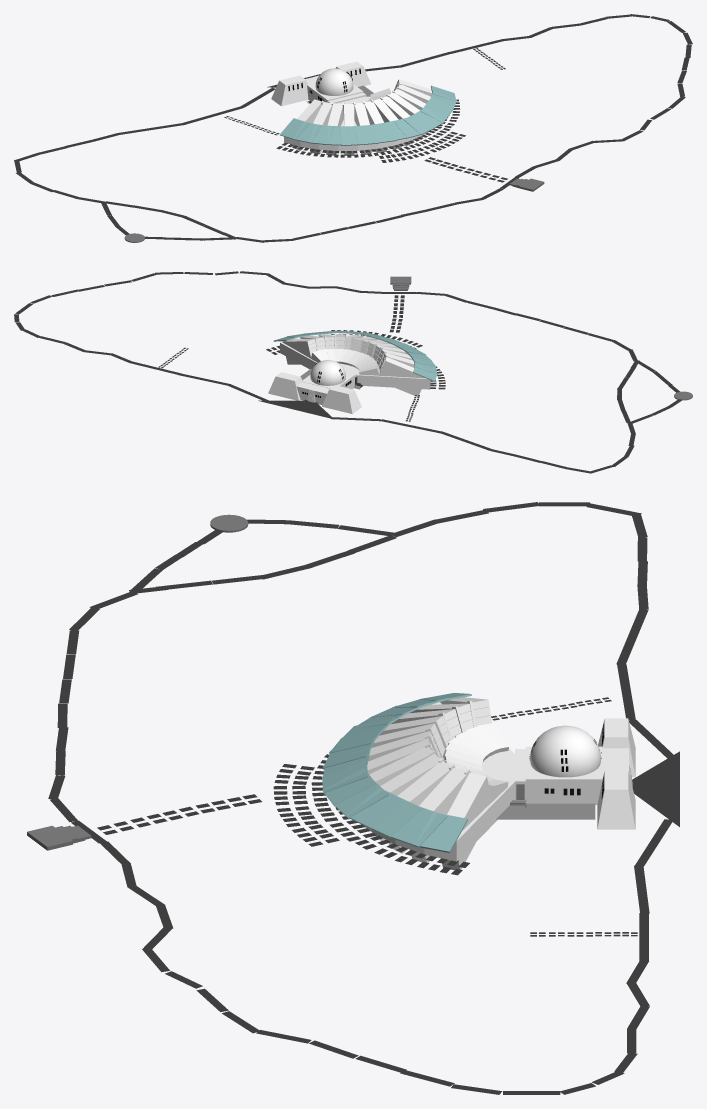
File: asmundarsafn_nyasta_utgafa_17.05.obj
3 renders of one model, top to bottom at view 1: azimuth 30°, elevation 25°; view 2: azimuth 150°, elevation 25°; view 3: azimuth 270°, elevation 25°, orthographic. The views are drawn at different scales.
Visible parts, largest first — view 1: Cube.047, Cube.033, syningarsalur, Sphere, h_hlid, Plane.001, v_hlid, innanhus; view 2: Cube.033, syningarsalur, Cube.047, Plane.001, h_hlid, Sphere, v_hlid, adaldyr; view 3: Cube.033, Cube.047, Plane.001, Sphere, syningarsalur, innanhus, v_hlid, h_hlid.
Boxes of the visible parts, x1=… form: Cube.047: x1=279, y1=85, x2=456, y2=145; Cube.033: x1=292, y1=79, x2=432, y2=155; syningarsalur: x1=284, y1=96, x2=428, y2=151; Sphere: x1=315, y1=68, x2=353, y2=95; h_hlid: x1=271, y1=75, x2=308, y2=106; Plane.001: x1=124, y1=74, x2=544, y2=242; v_hlid: x1=335, y1=61, x2=370, y2=86; innanhus: x1=307, y1=82, x2=363, y2=102; Cube.033: x1=282, y1=334, x2=425, y2=396; syningarsalur: x1=280, y1=334, x2=430, y2=389; Cube.047: x1=273, y1=330, x2=437, y2=381; Plane.001: x1=258, y1=276, x2=692, y2=419; h_hlid: x1=322, y1=385, x2=361, y2=413; Sphere: x1=310, y1=360, x2=345, y2=385; v_hlid: x1=268, y1=372, x2=302, y2=400; adaldyr: x1=296, y1=382, x2=329, y2=404; Cube.033: x1=367, y1=697, x2=508, y2=870; Cube.047: x1=322, y1=693, x2=471, y2=852; Plane.001: x1=27, y1=514, x2=679, y2=850; Sphere: x1=530, y1=725, x2=601, y2=777; syningarsalur: x1=364, y1=702, x2=514, y2=861; innanhus: x1=525, y1=746, x2=604, y2=804; v_hlid: x1=597, y1=770, x2=635, y2=829; h_hlid: x1=598, y1=718, x2=635, y2=777.
Size of the model in its own units: 147 by 8.94 by 68.62.
